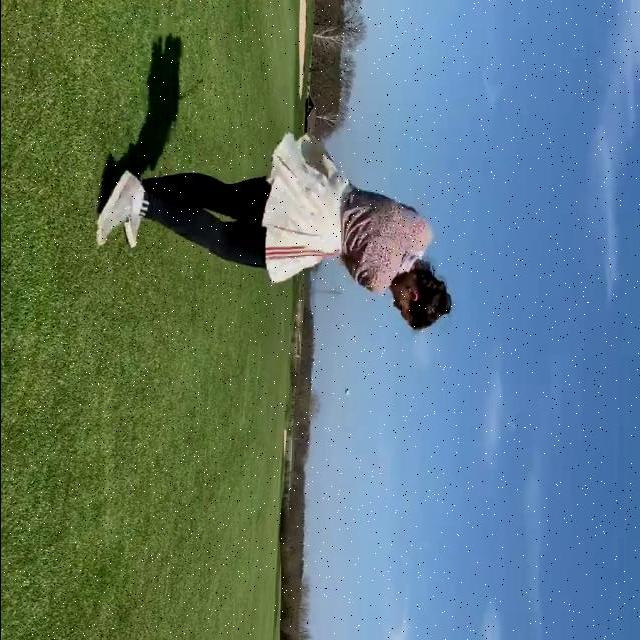golf ball: (343, 388, 350, 397)
